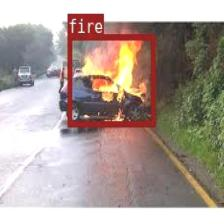fire: (67, 34, 154, 126)
